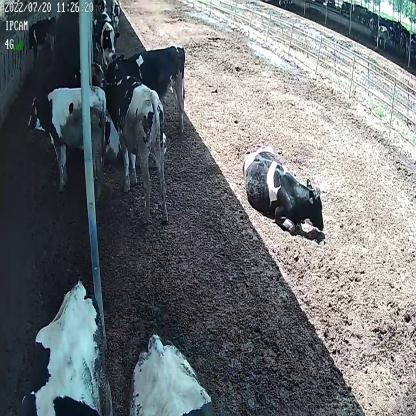cow: (107, 68, 170, 222), (239, 145, 328, 239), (28, 86, 105, 190), (101, 46, 187, 137), (96, 10, 119, 61), (110, 1, 122, 34)
